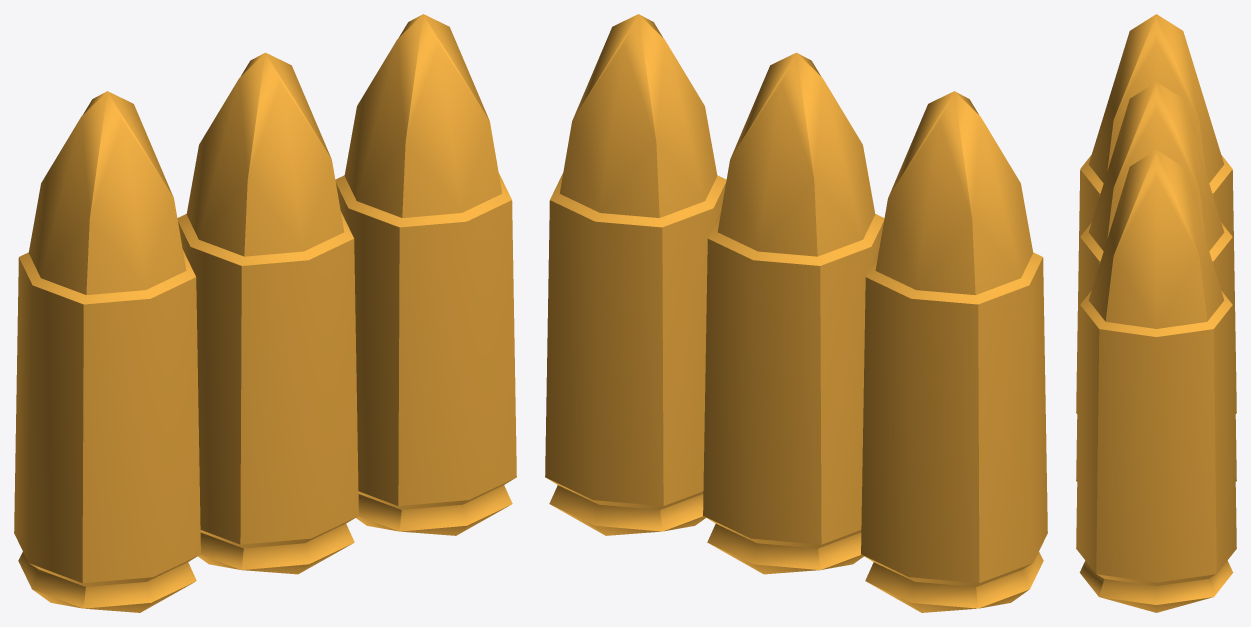
The model's file is cc0-pickup-bullets-lod1.glb.
3 renders of one model, left to right at view 1: azimuth 30°, elevation 25°; view 2: azimuth 150°, elevation 25°; view 3: azimuth 270°, elevation 25°, orthographic. The views are drawn at different scales.
Parts seen in each view (by area): view 1: part_0; view 2: part_0; view 3: part_0.
Part boxes in pixels (x1,y1,x2,y2): part_0: (14,14,516,612); part_0: (545,14,1047,612); part_0: (1076,14,1236,612).
Size of the model in its own units: 0.8284 by 0.832 by 0.2761.
1 material, 1 textured.
